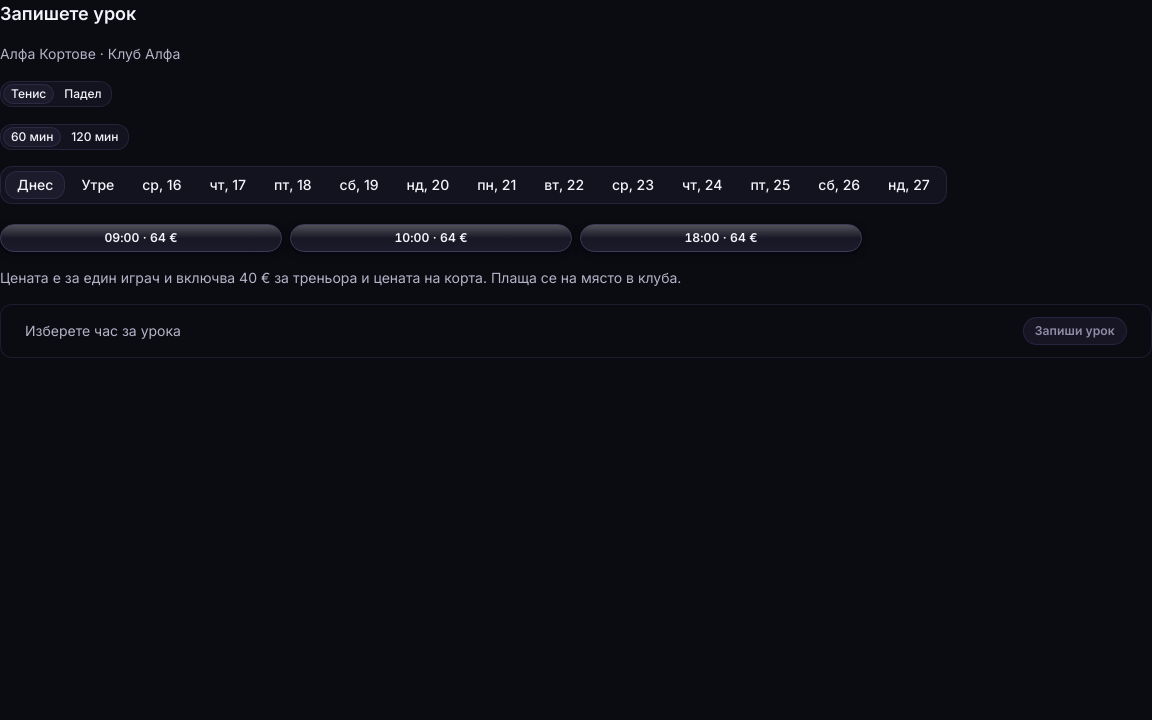
Scenario: the confirmation sheet › COACH_TAKEN: says which went, refreshes the times, and offers to pick another
The image size is (1152, 720).
Click the button "10:00 · 64 €". click: [431, 238]
box: [290,224,572,252]
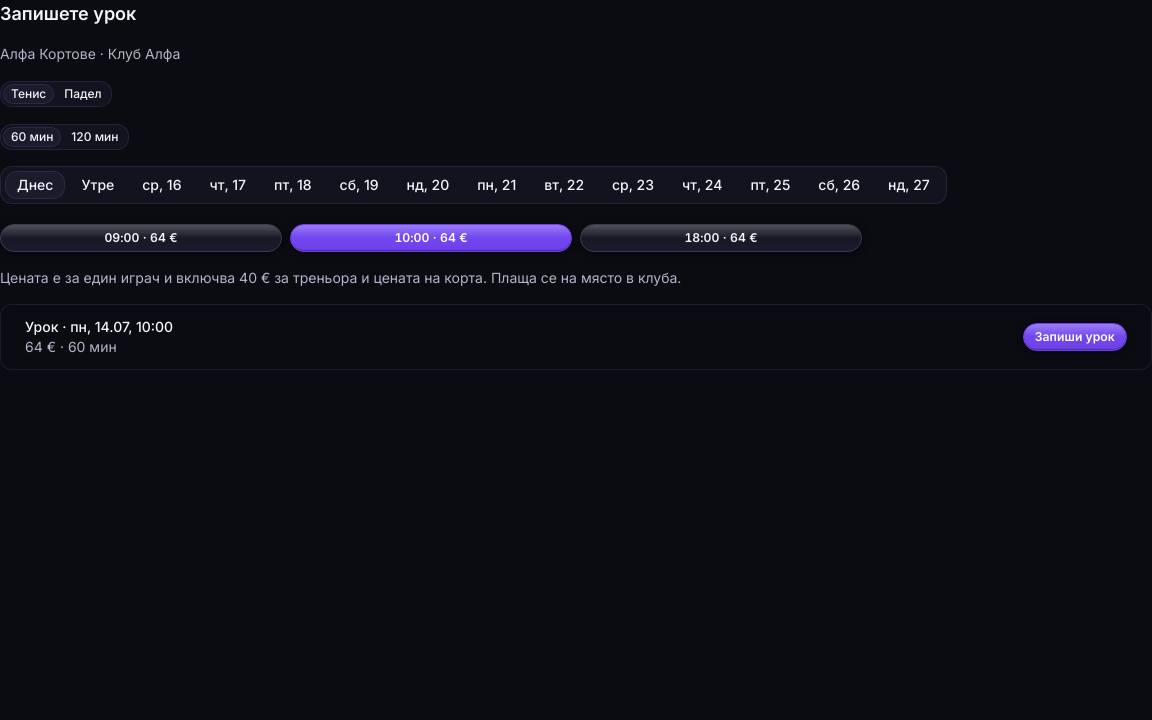
Click the button with test id "lesson-book". click: [1075, 337]
box: [1023,323,1127,351]
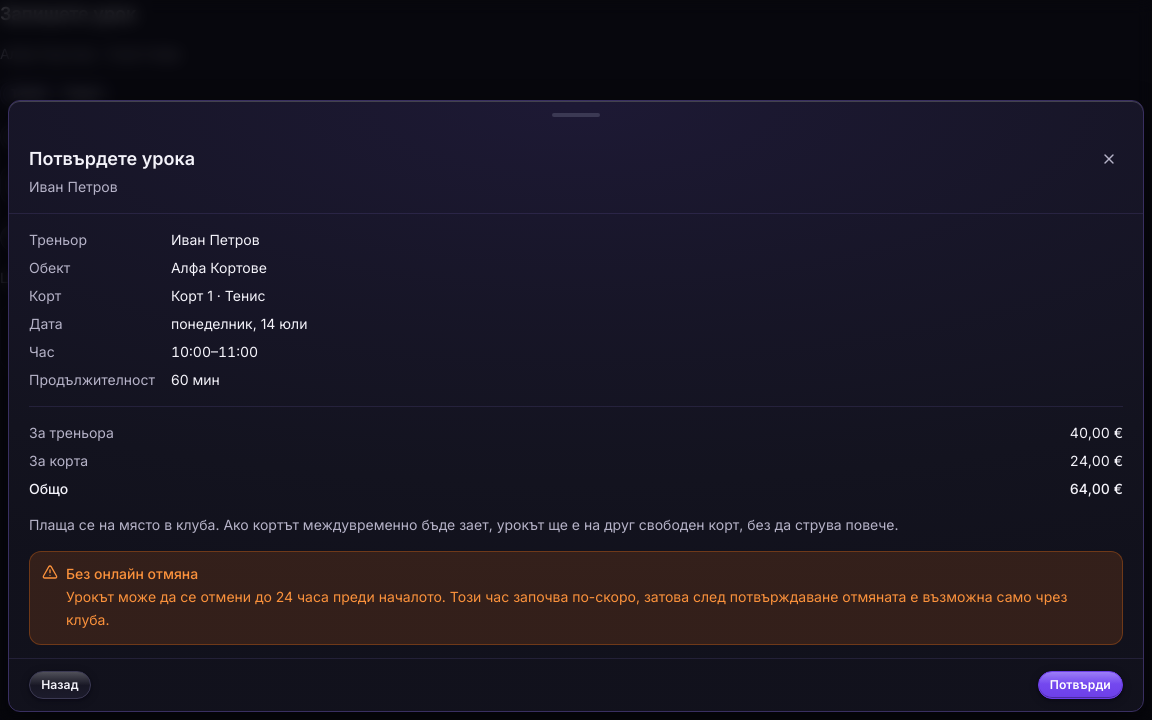
Click the button with test id "lesson-sheet-confirm". click: [1080, 685]
box: [1038,671,1123,699]
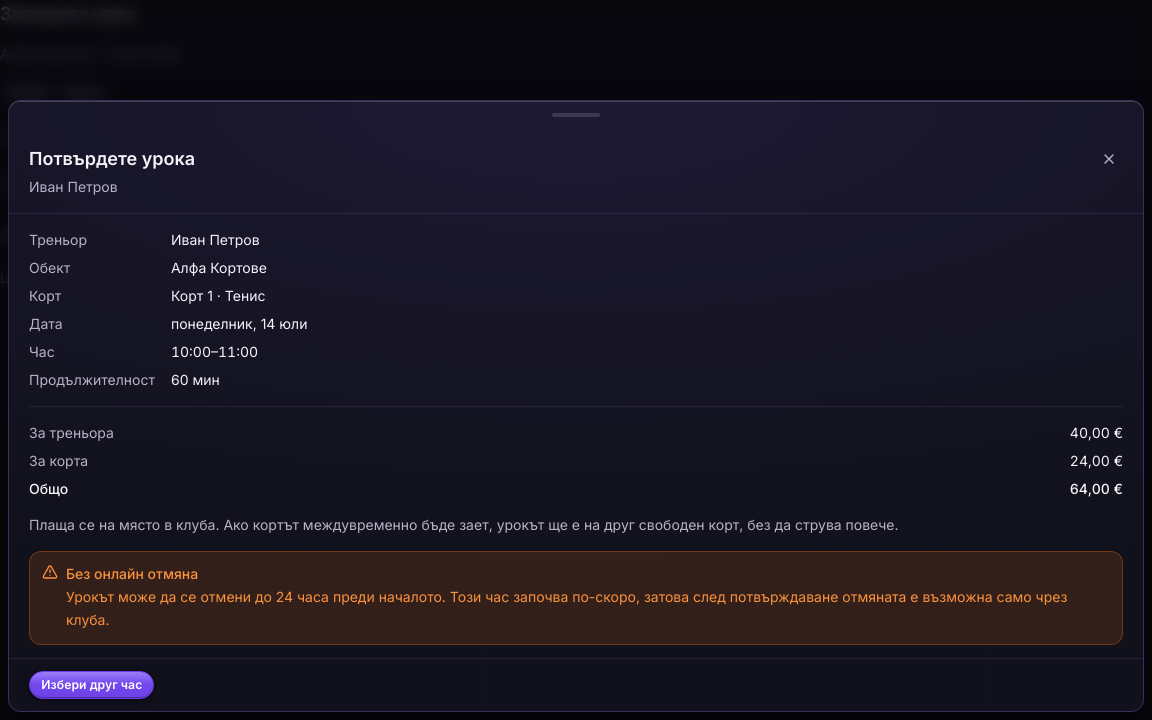
Check: the button with test id "lesson-sheet-confirm" is gone
Click the button "Избери друг час". click: [92, 685]
box: [29,671,154,699]
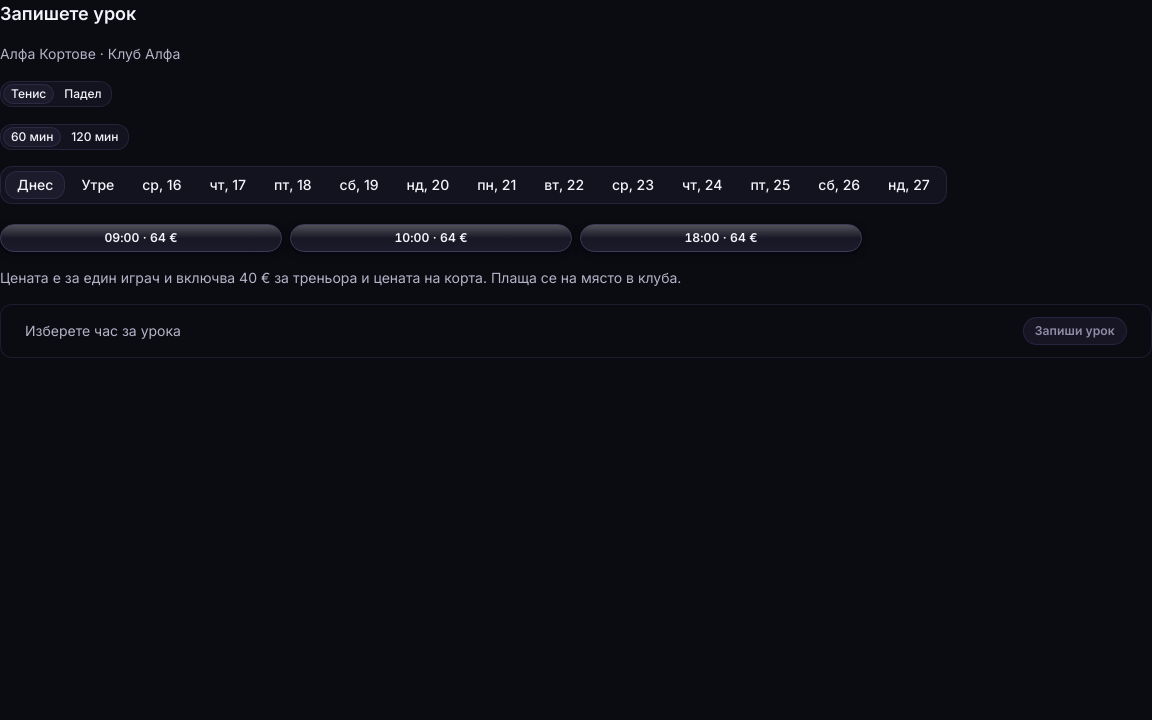
Check: the dialog is gone
Check: the text "Изберете час за урока" is shown, box [25,321,181,341]
